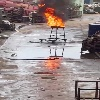fire: (38, 4, 66, 27)
